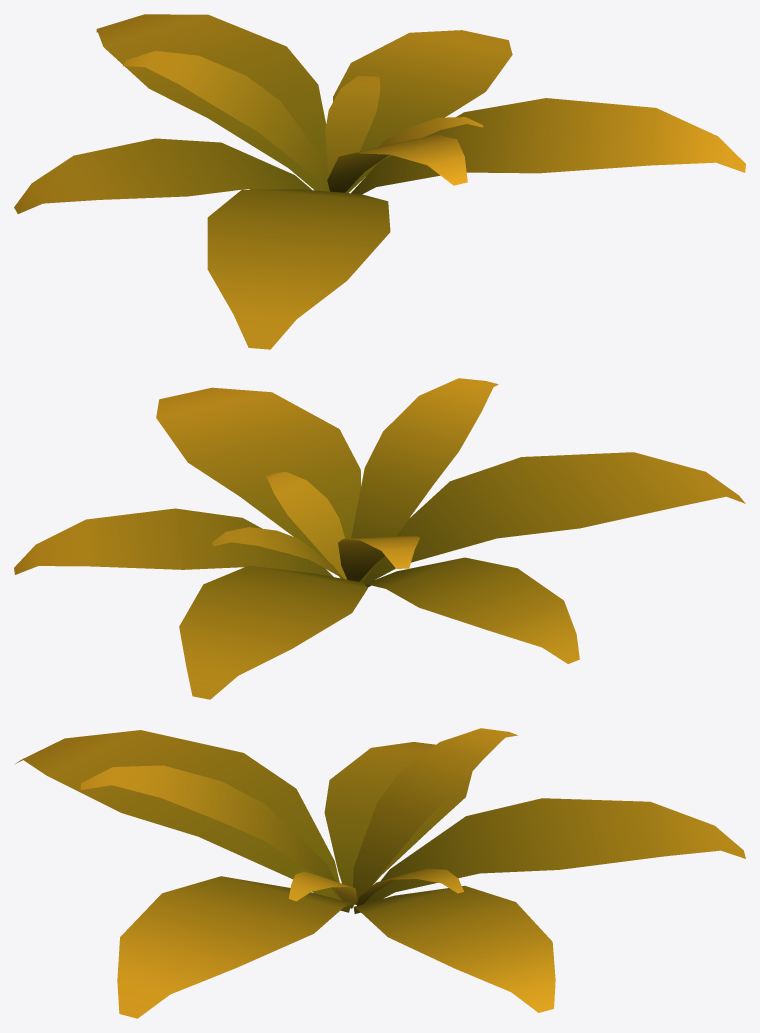
Rendered from plant3_001.fbx.
The picture shows the model from 3 angles, top to bottom: view 1: azimuth 30°, elevation 25°; view 2: azimuth 150°, elevation 25°; view 3: azimuth 270°, elevation 25°; orthographic projection. The views are drawn at different scales.
Parts seen in each view (by area): view 1: plant3.001; view 2: plant3.001; view 3: plant3.001.
Part boxes in pixels (left/top/right/bottom): plant3.001: left=14, top=14, right=745, bottom=349; plant3.001: left=14, top=378, right=745, bottom=699; plant3.001: left=14, top=728, right=745, bottom=1018.
Size of the model in its own units: 37.82 by 7.92 by 40.95.
